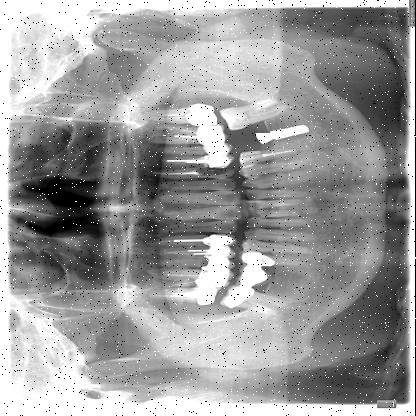ITI: (272, 121, 316, 145)
